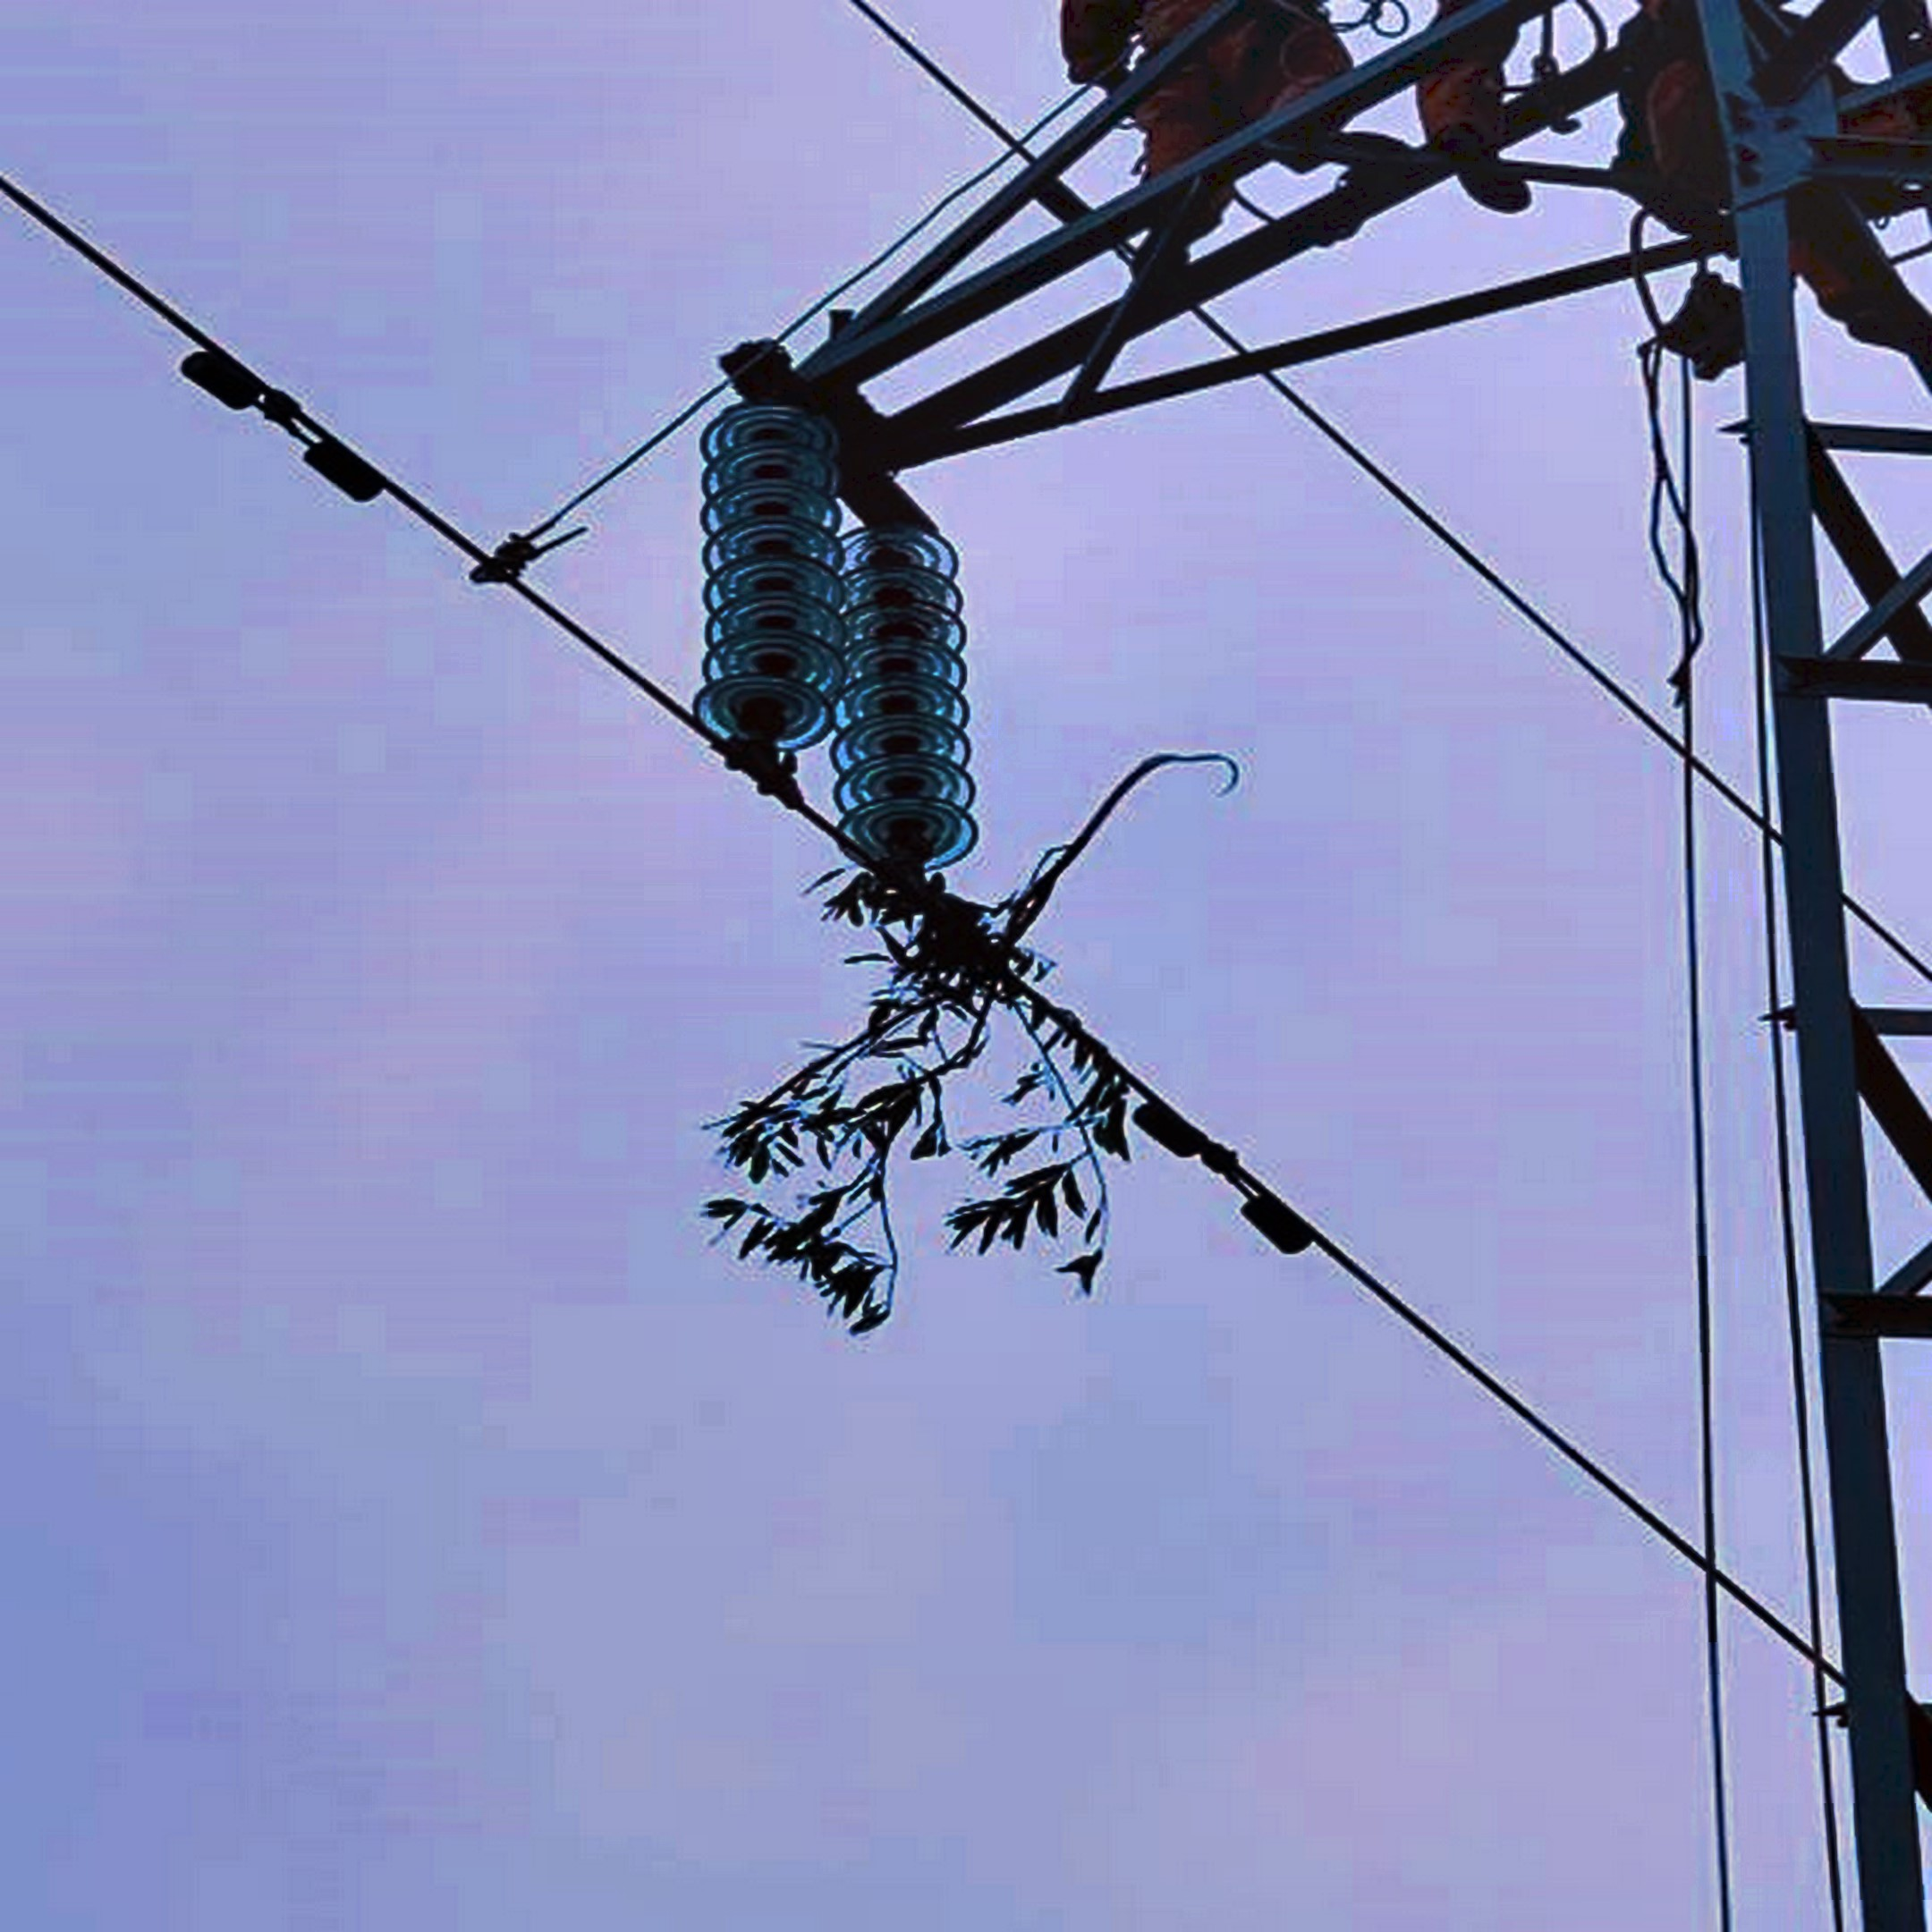wire foreign body: (709, 844, 1157, 1320)
